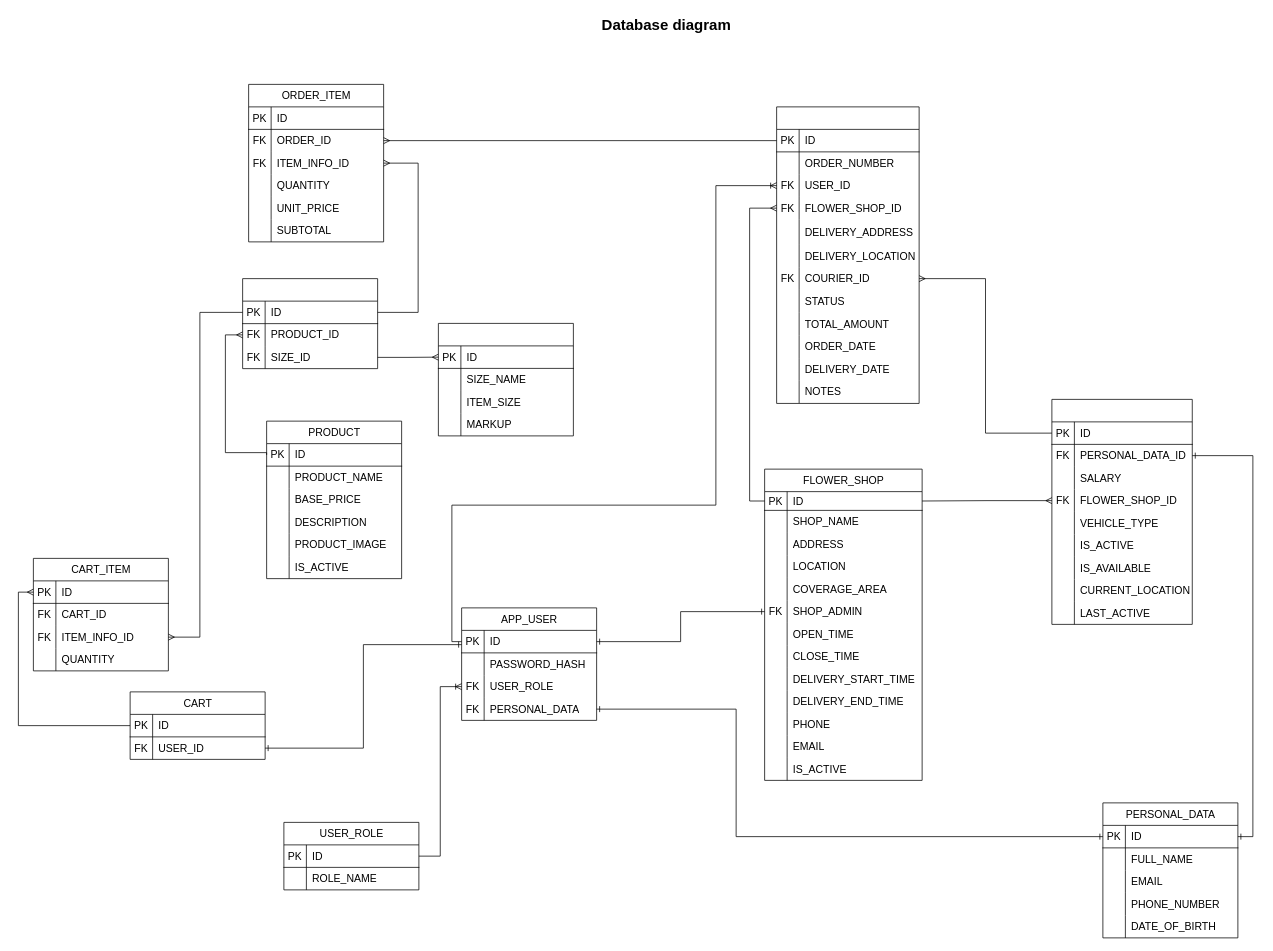
Image size: 1273x951. Some labels were removed from this diagram. The shapes that lost their labels are listed below. From the top down, each one's box as (x1, y1, x2, y2) in pixels, then its label:
(776, 106, 919, 403): USER_ORDER
(242, 278, 378, 369): PRODUCT_ITEM_INFO
(438, 323, 573, 436): SIZE_CATEGORY
(1051, 399, 1192, 624): COURIER
